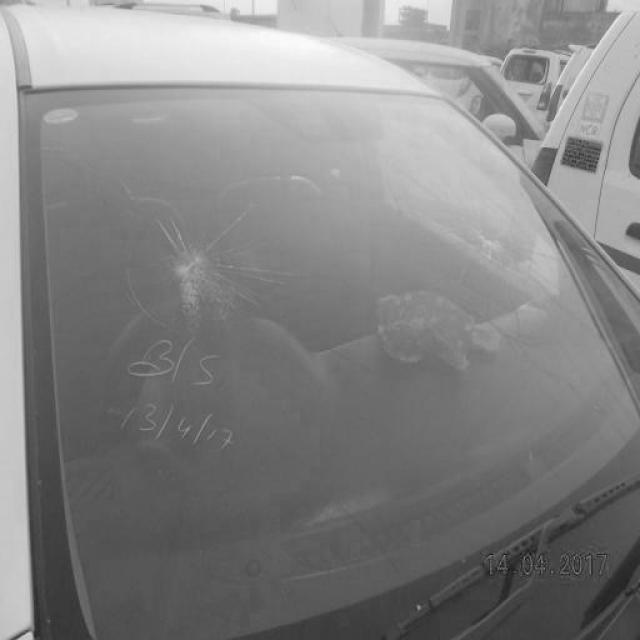car damage: (148, 204, 267, 326)
